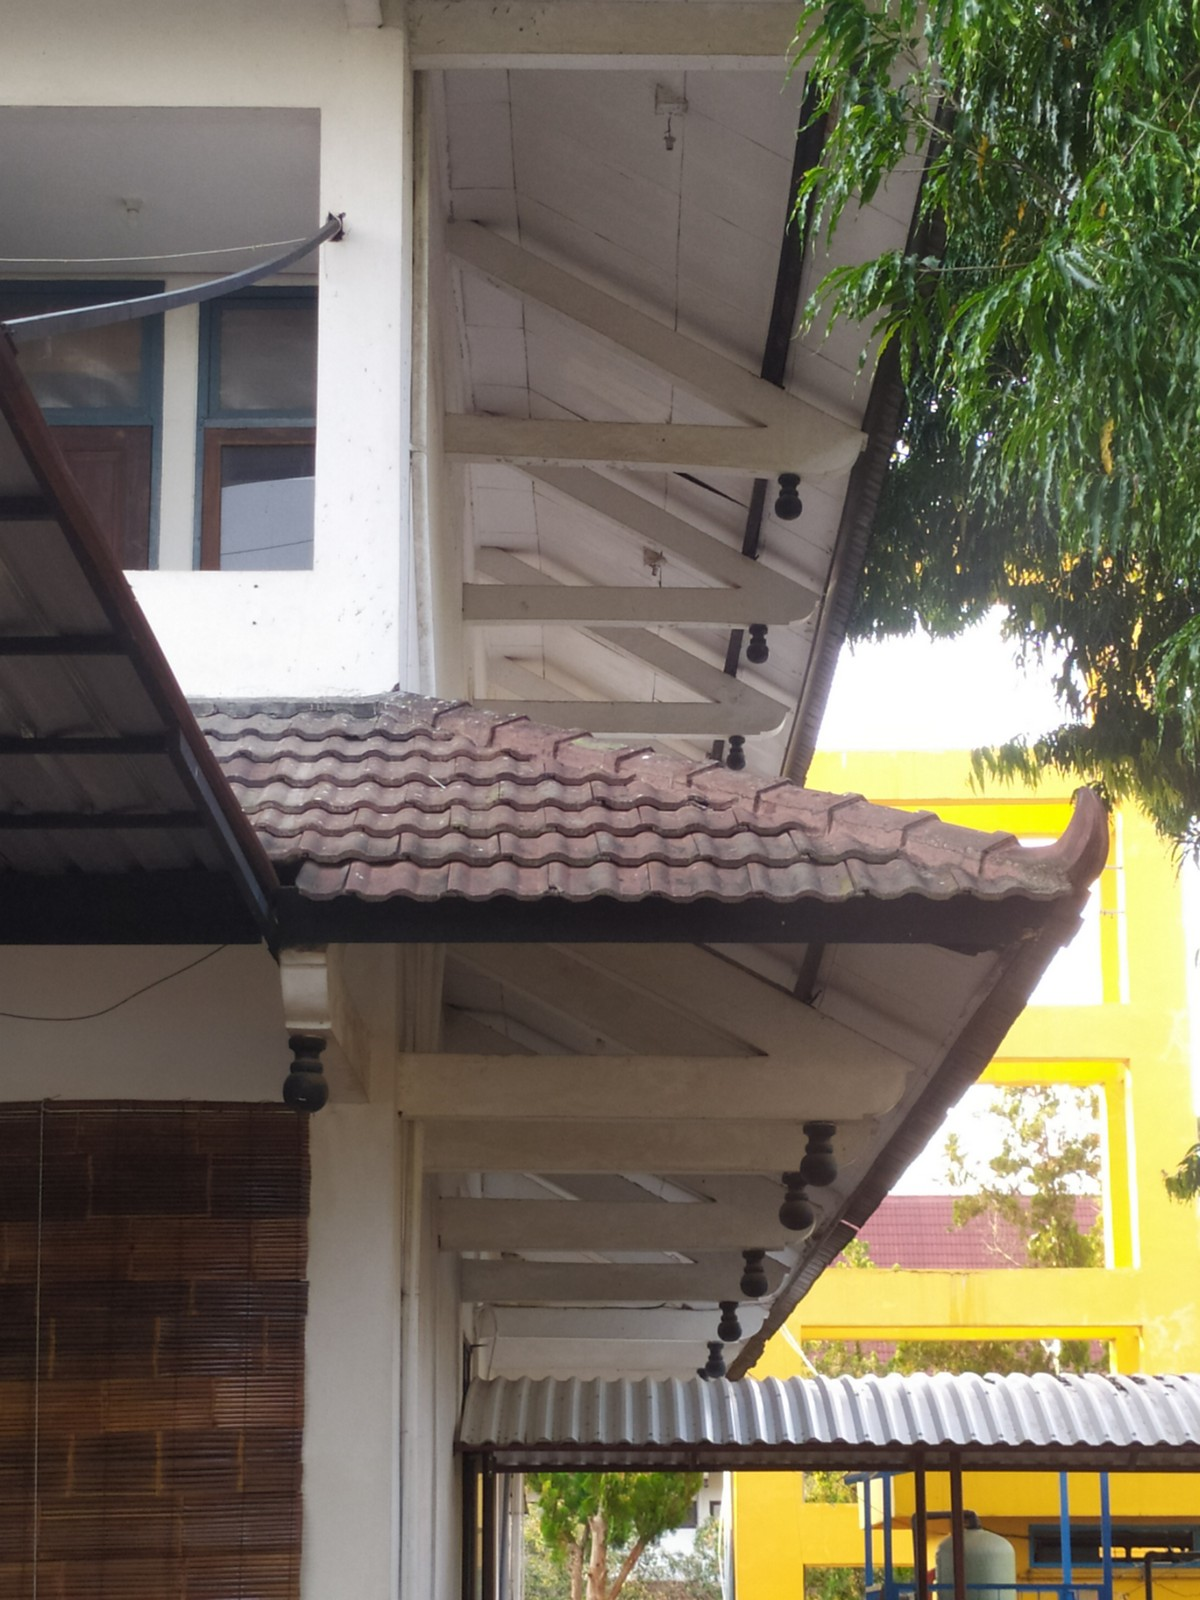concrete beam: (384, 1043, 798, 1128), (434, 398, 761, 484), (429, 1188, 753, 1255), (447, 569, 746, 636)
